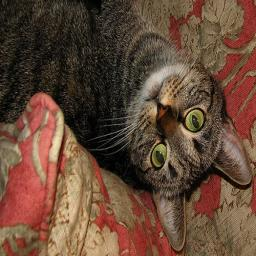catnose: (156, 101, 169, 121)
